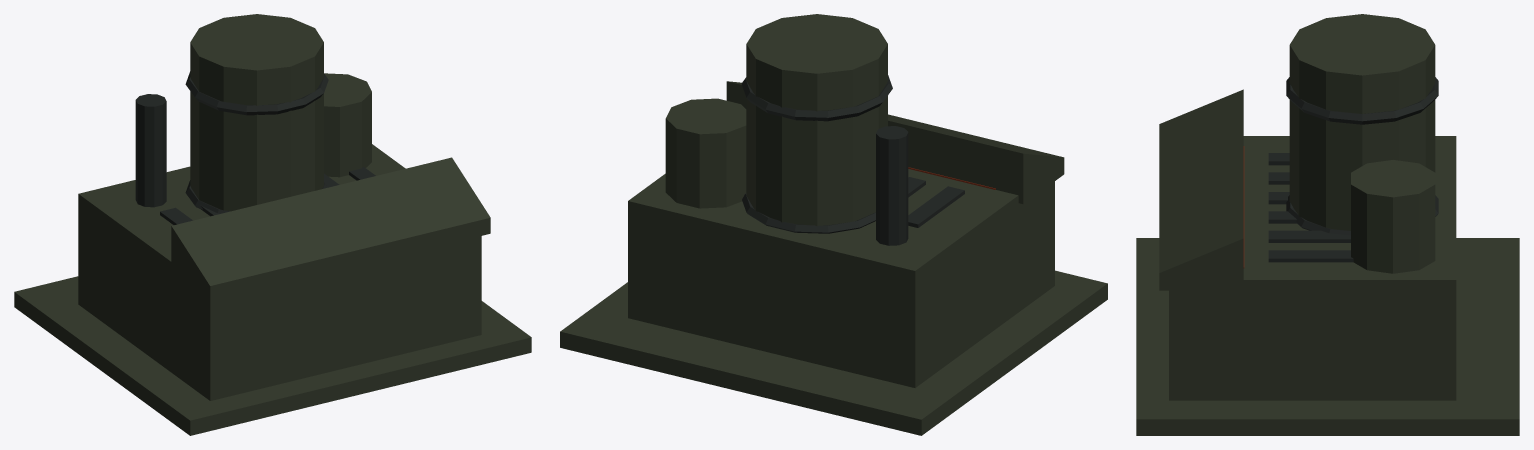
Rendered from Bastion_PowerPlant_Articulated.glb.
3 renders of one model, left to right at view 1: azimuth 30°, elevation 25°; view 2: azimuth 150°, elevation 25°; view 3: azimuth 270°, elevation 25°, orthographic. The views are drawn at different scales.
Parts seen in each view (by area): view 1: Base; view 2: Base; view 3: Base.
Part boxes in pixels (x1,y1,x2,y2): Base: (14, 14, 531, 435); Base: (560, 14, 1107, 435); Base: (1136, 14, 1519, 435).
Bounding box in the file's own units: 5.6 × 4.32 × 5.
1 material, 1 textured.
